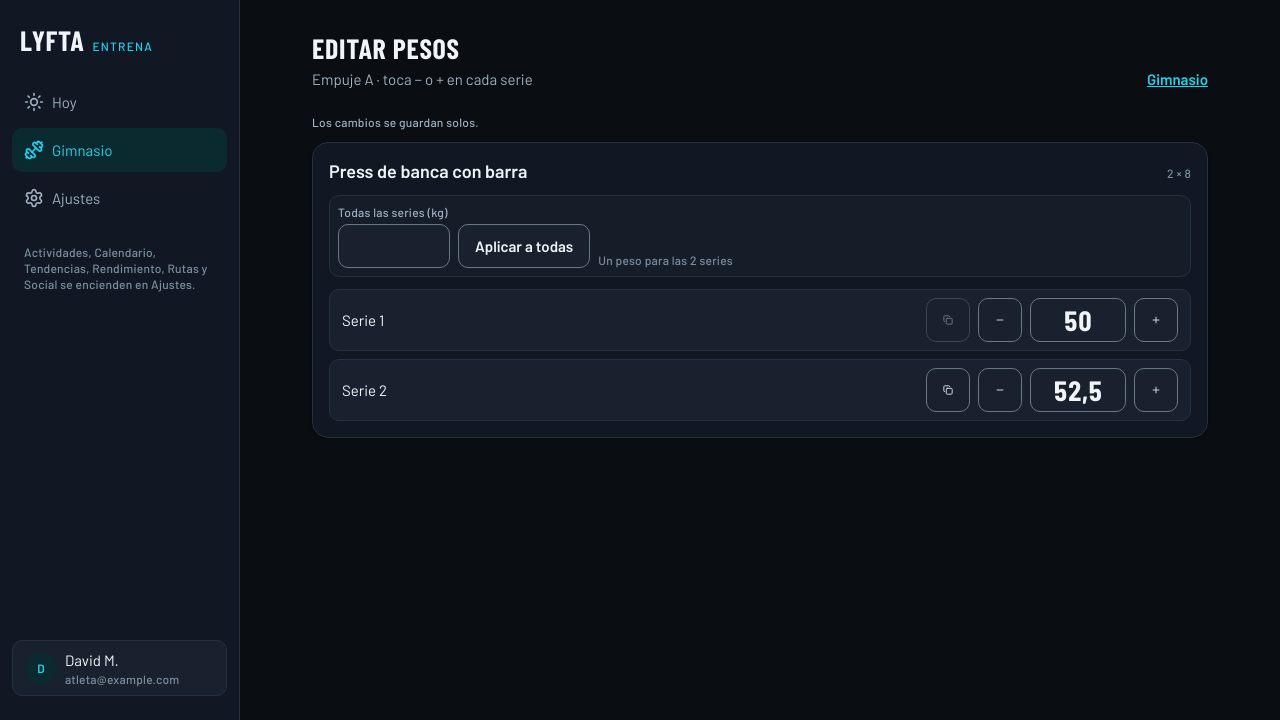
it: editar el peso en la propia fila › tocar el campo y salir guarda el nuevo peso sin abrir otra pantalla
Expected: the heading "Editar pesos" is shown, [312,31,460,65]
Replace the text in the field named "Peso serie 1 de Press de banca con barra" with "52,5" at (1078, 320), box [1030,298,1126,342]
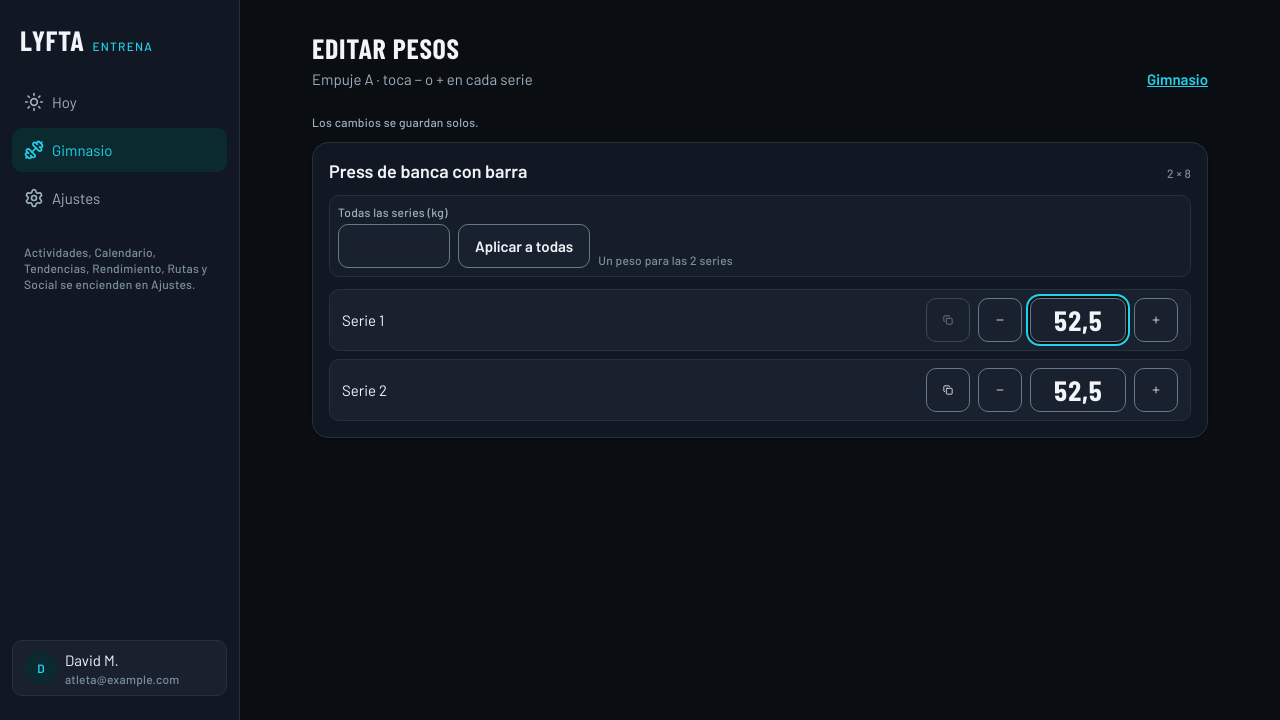
// Salir del campo es guardar.
Press Tab
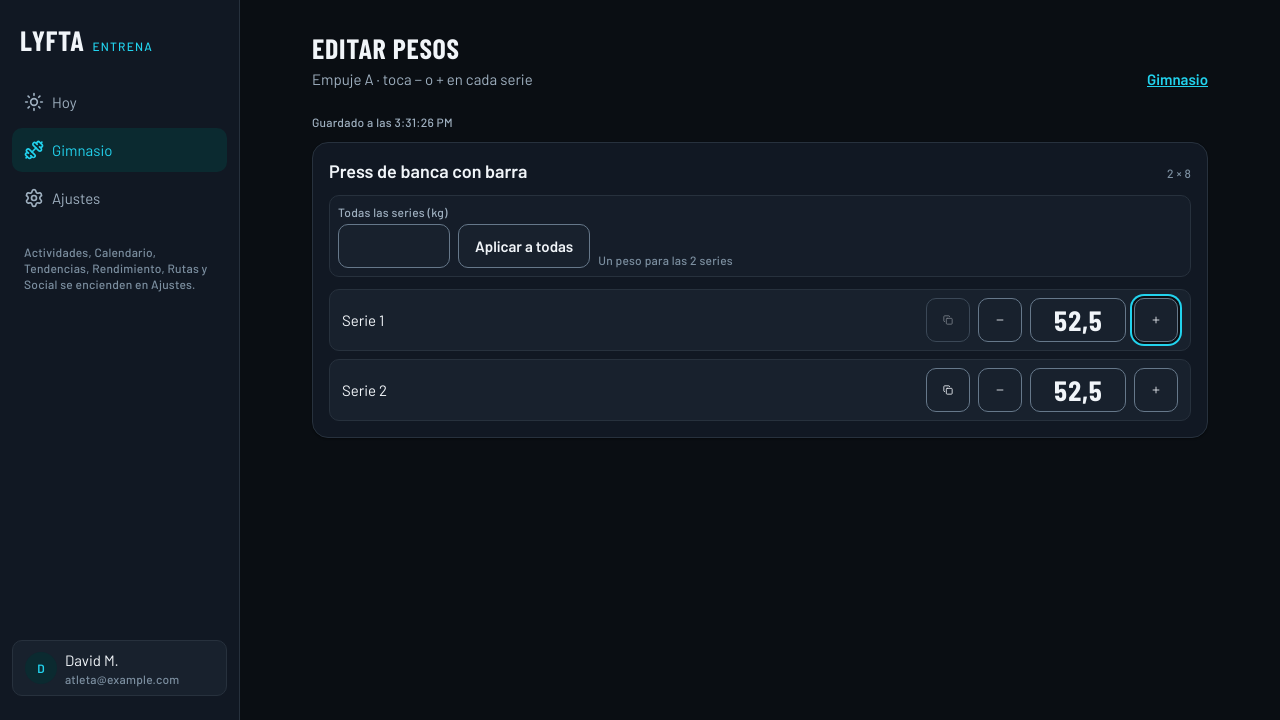
Result: the text "Guardado a las 3:31:26 PM" is shown at [312,115,453,129]
